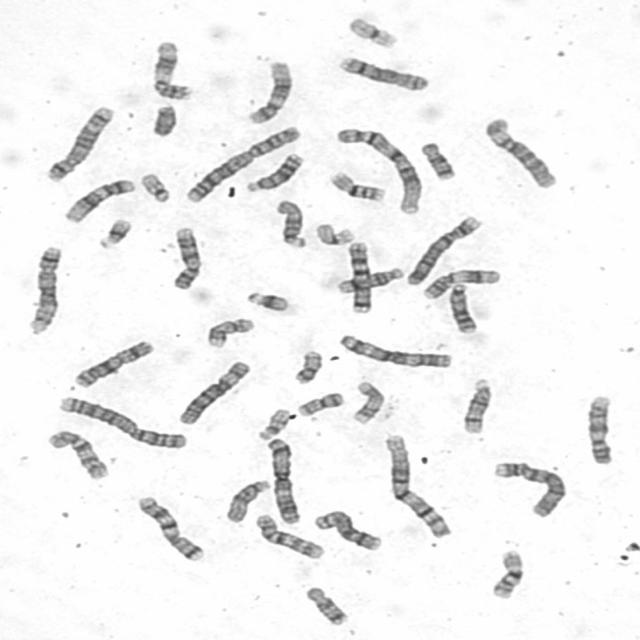A1: (331, 124, 425, 216), (379, 430, 454, 540)
A2: (179, 122, 303, 204), (53, 392, 188, 450)
A3: (333, 330, 454, 370), (261, 434, 302, 525)
B4: (401, 211, 483, 287), (488, 457, 568, 519)
B5: (41, 101, 116, 183), (22, 241, 64, 335)
C10: (41, 425, 111, 482), (250, 510, 326, 560)
C11: (146, 36, 194, 102), (417, 264, 502, 301)
C12: (58, 174, 136, 224), (242, 56, 293, 125)
C6: (479, 112, 559, 190), (173, 357, 252, 426)
C7: (132, 492, 207, 564), (343, 237, 374, 315)
C8: (334, 52, 431, 93), (309, 506, 384, 552)
C9: (166, 222, 203, 292), (581, 390, 615, 466)
D13: (240, 150, 305, 193), (445, 281, 479, 334)
D14: (332, 262, 405, 294), (457, 374, 495, 435)
D15: (221, 476, 272, 523), (271, 195, 308, 250)
E16: (324, 167, 388, 203), (486, 546, 526, 600)
E17: (200, 314, 256, 350), (347, 377, 386, 426)
E18: (300, 582, 350, 627), (415, 138, 457, 182)
F19: (342, 12, 400, 50), (310, 219, 356, 246)
F20: (292, 388, 346, 418), (288, 347, 324, 385)
G21: (92, 214, 134, 250), (242, 287, 292, 314)
G22: (252, 405, 292, 441), (136, 169, 172, 204)
X: (67, 336, 156, 389)
Y: (146, 100, 179, 138)
